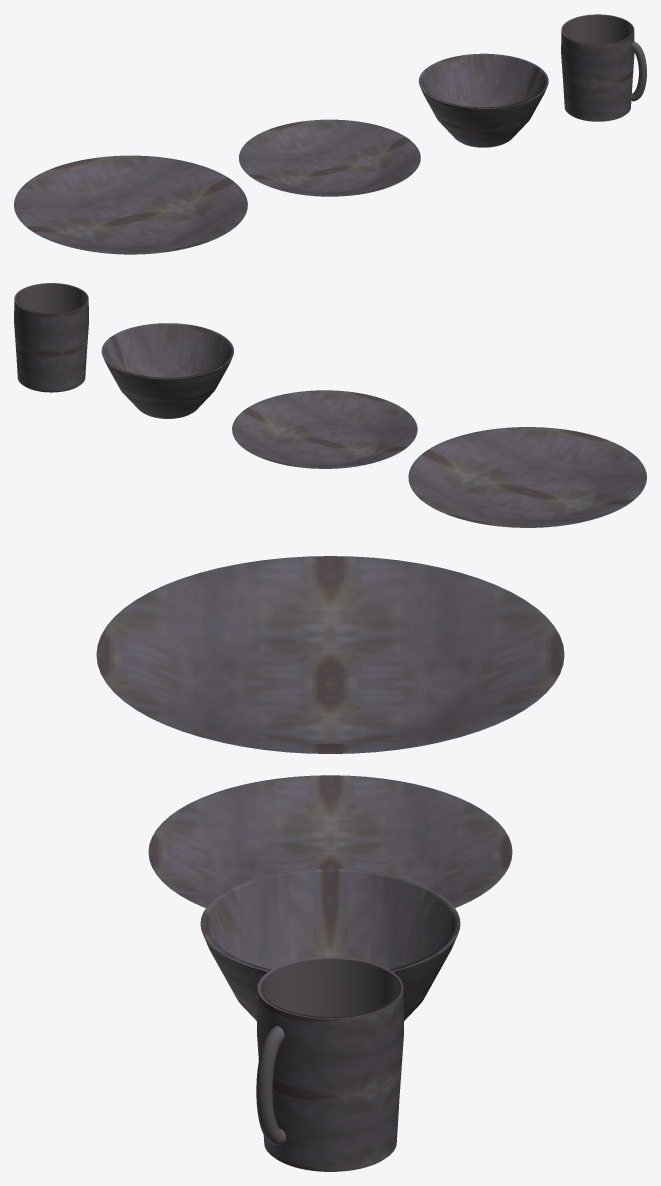
Rendered from GRL-04.glb.
3 views of the same model, one above another, from view 1: azimuth 30°, elevation 25°; view 2: azimuth 150°, elevation 25°; view 3: azimuth 270°, elevation 25° (orthographic). The views are drawn at different scales.
Bounding box in the file's own units: 0.7997 × 0.1 × 0.27.
Materials: 9 (7 with a texture image).
